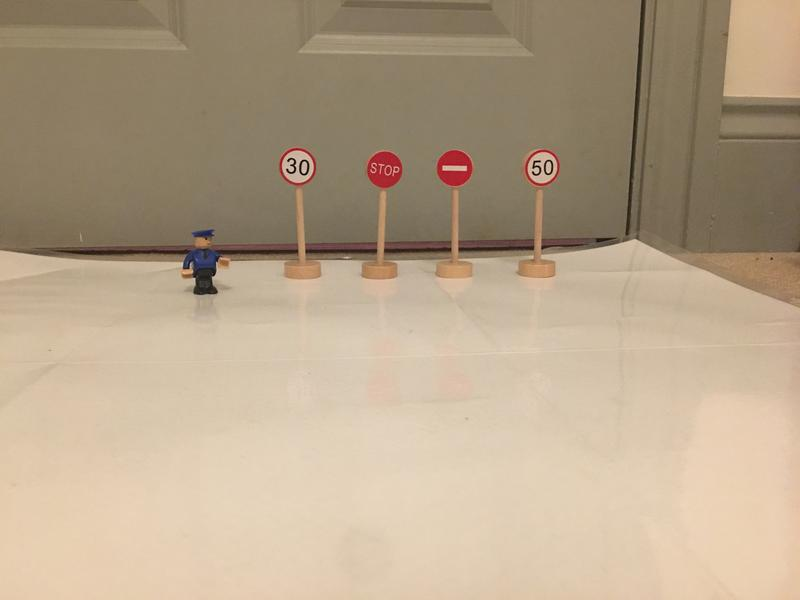Traffic_Sign_30: (280, 149, 316, 186)
Traffic_Sign_50: (527, 149, 559, 187)
Traffic_Sign_No_Entry: (437, 150, 472, 189)
Traffic_Sign_Stop: (368, 150, 401, 189)
person: (180, 230, 230, 303)
